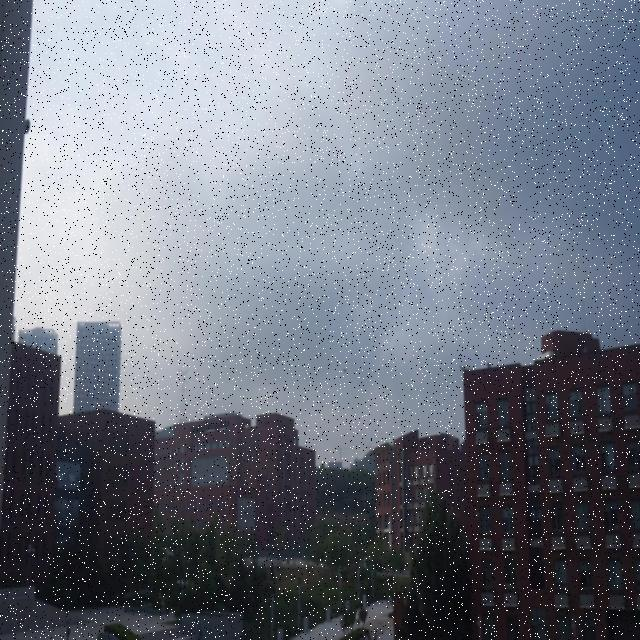UAV: (342, 368, 348, 374)
